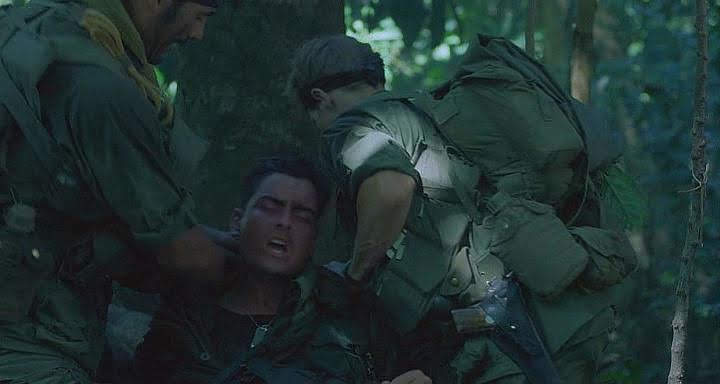gun: (431, 276, 596, 373)
